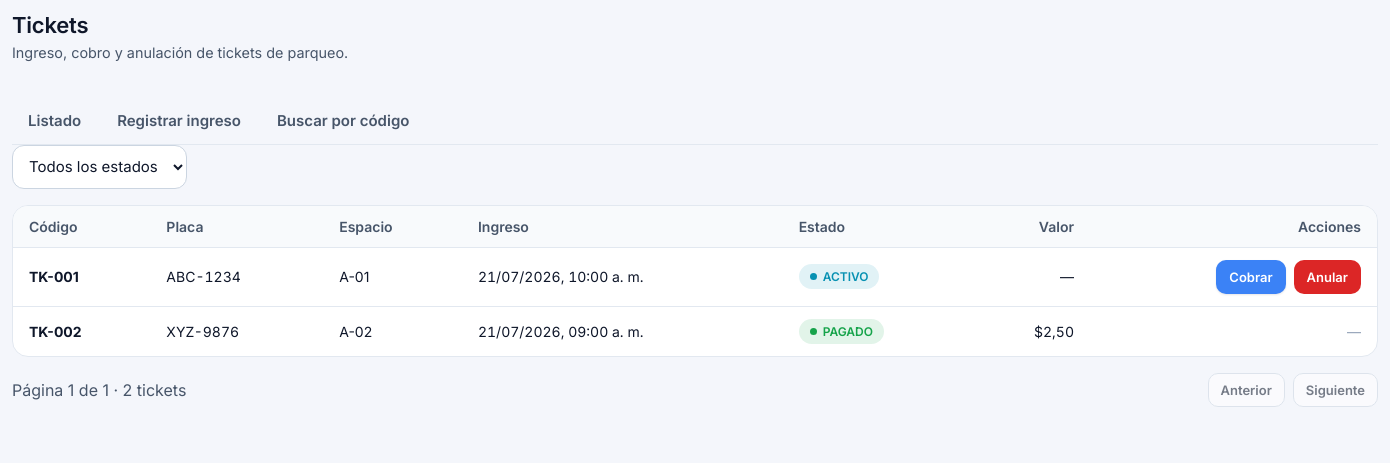
Test: TicketsPage › busca ticket por código
Expected: the text "TK-001" is shown, [29,268,79,285]
Click the tab "Buscar por código" at (343, 121), box [261,99,426,144]
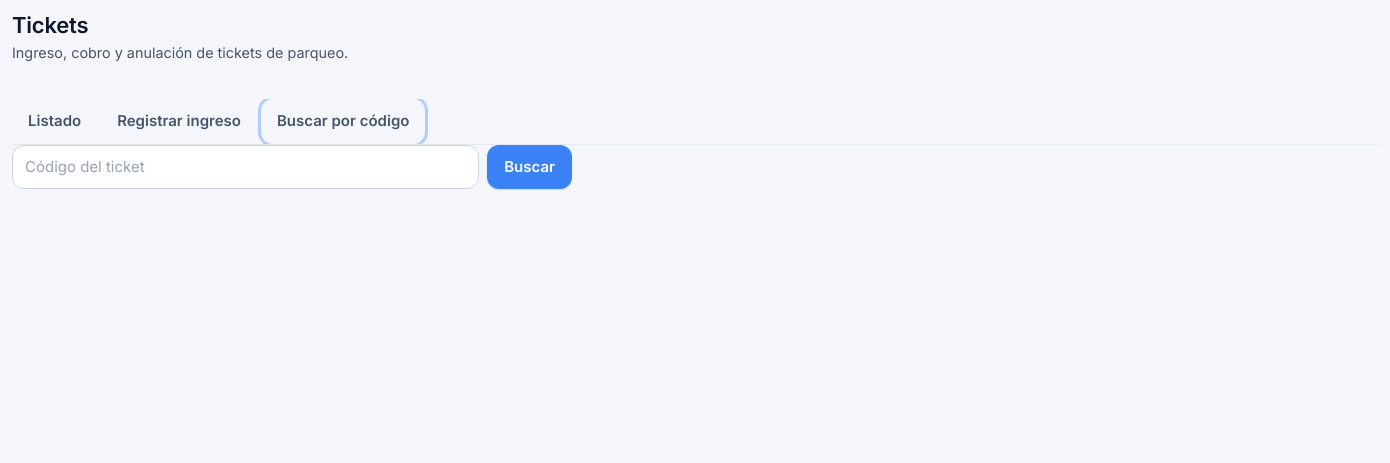
Type "TK-002" into the field labelled "Código del ticket" at (246, 167), box [12,145,479,189]
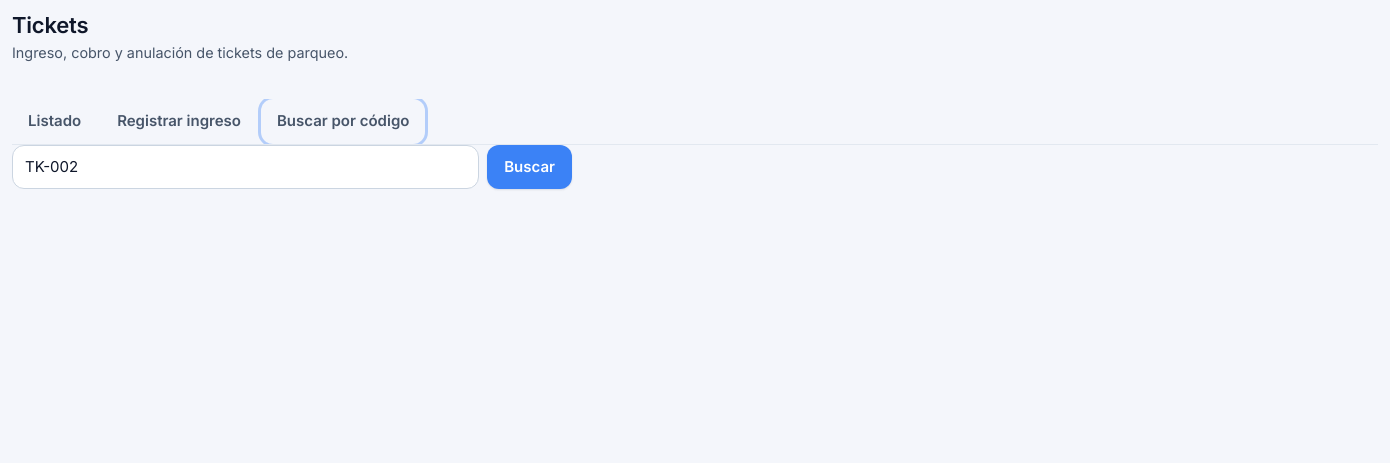
Click the button "Buscar" at (530, 167), box [487,145,572,189]
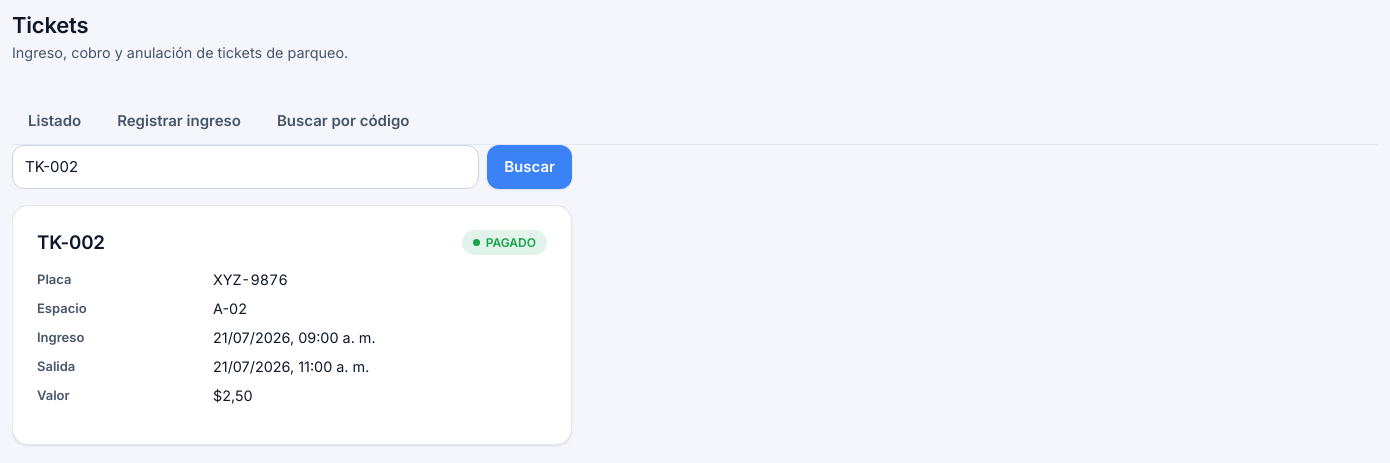
Expected: the heading "TK-002" is shown, [37,231,105,254]
